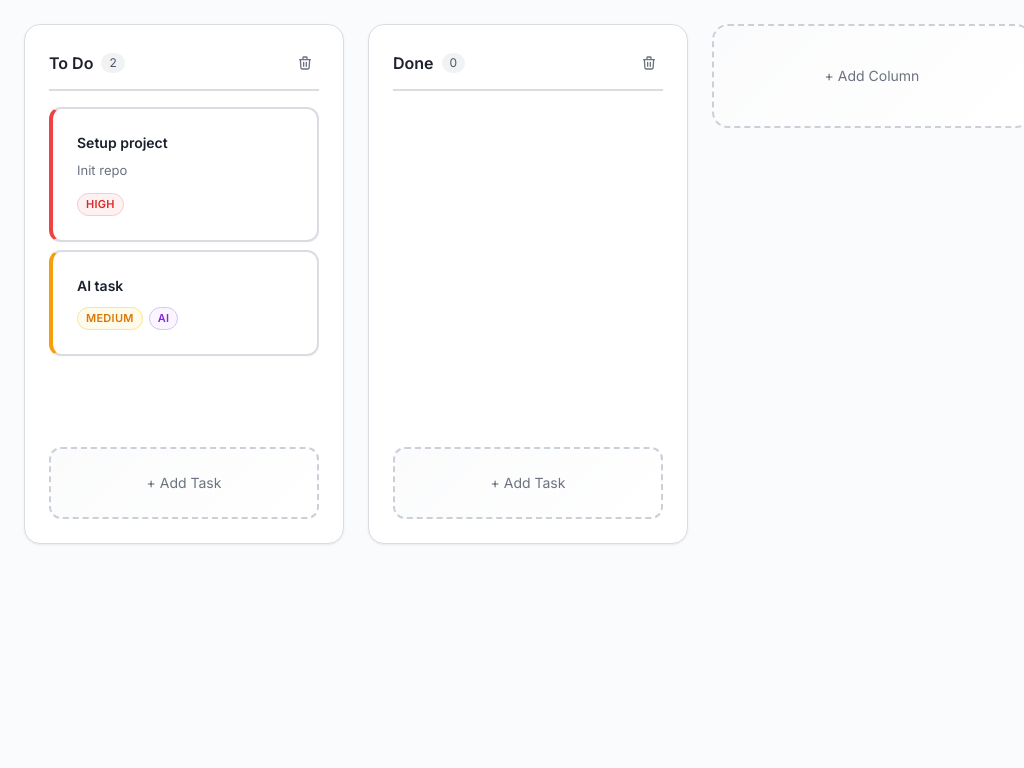
Test: Board › opens create task modal on + Add Task click
What coordinates should you click on to do the following:
click the 1st button "+ Add Task"
I would click on:
 (184, 483)
Its box is [49,447,319,519].
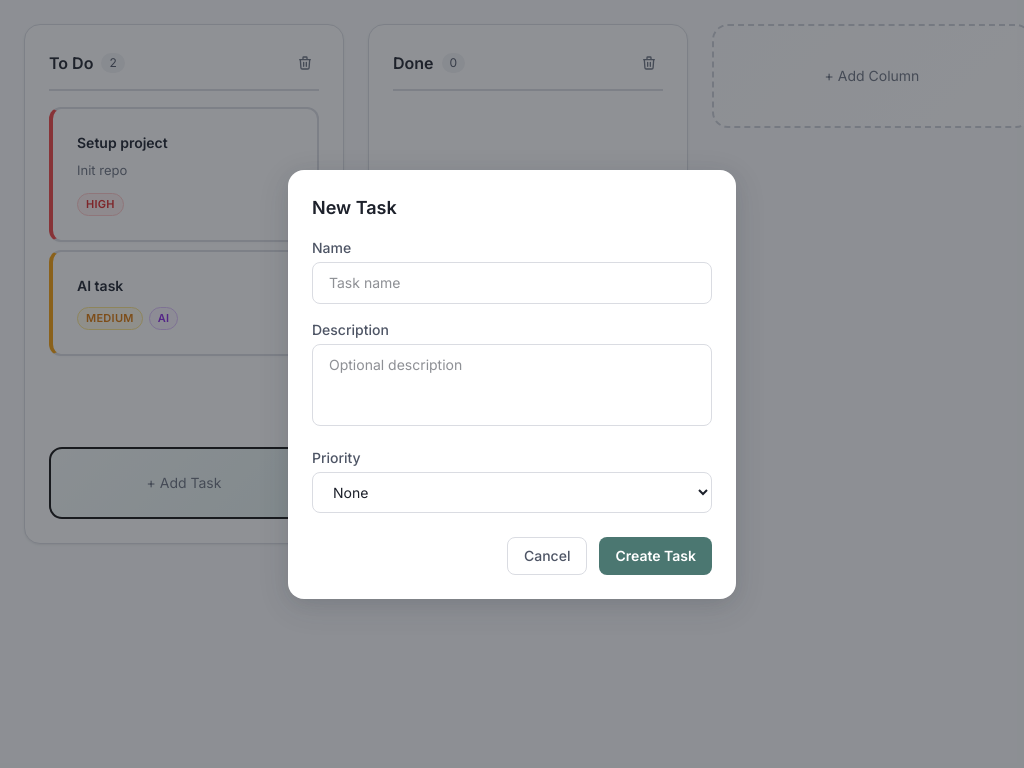
Check: the heading "New Task" is shown, box [312,196,397,218]
